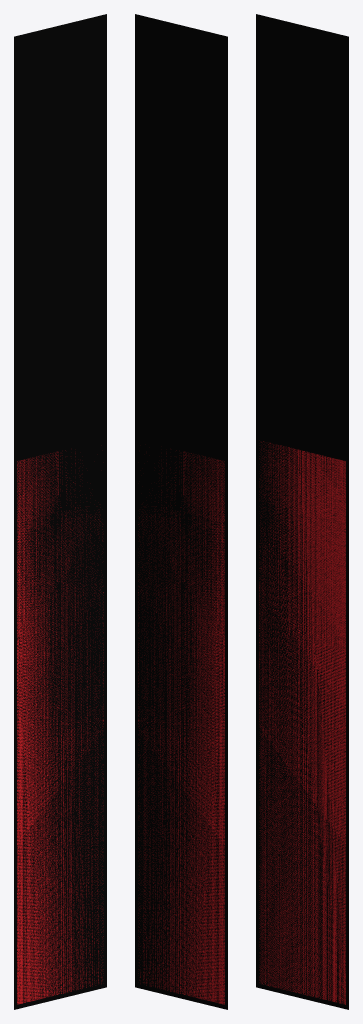
File: altitude.glb
3 renders of one model, left to right at view 1: azimuth 30°, elevation 25°; view 2: azimuth 150°, elevation 25°; view 3: azimuth 330°, elevation 25°, orthographic.
Visible parts, largest first — view 1: mesh_id32, mesh_id34; view 2: mesh_id32, mesh_id34; view 3: mesh_id32, mesh_id34.
Part boxes in pixels (x1=…): mesh_id32: x1=14, y1=14, x2=106, y2=1009; mesh_id34: x1=17, y1=450, x2=103, y2=1004; mesh_id32: x1=135, y1=14, x2=227, y2=1009; mesh_id34: x1=138, y1=450, x2=224, y2=1004; mesh_id32: x1=256, y1=14, x2=348, y2=1009; mesh_id34: x1=259, y1=441, x2=345, y2=1004.
Bounding box in the file's own units: 0.04 × 0.401 × 0.
2 materials, 2 textured.
